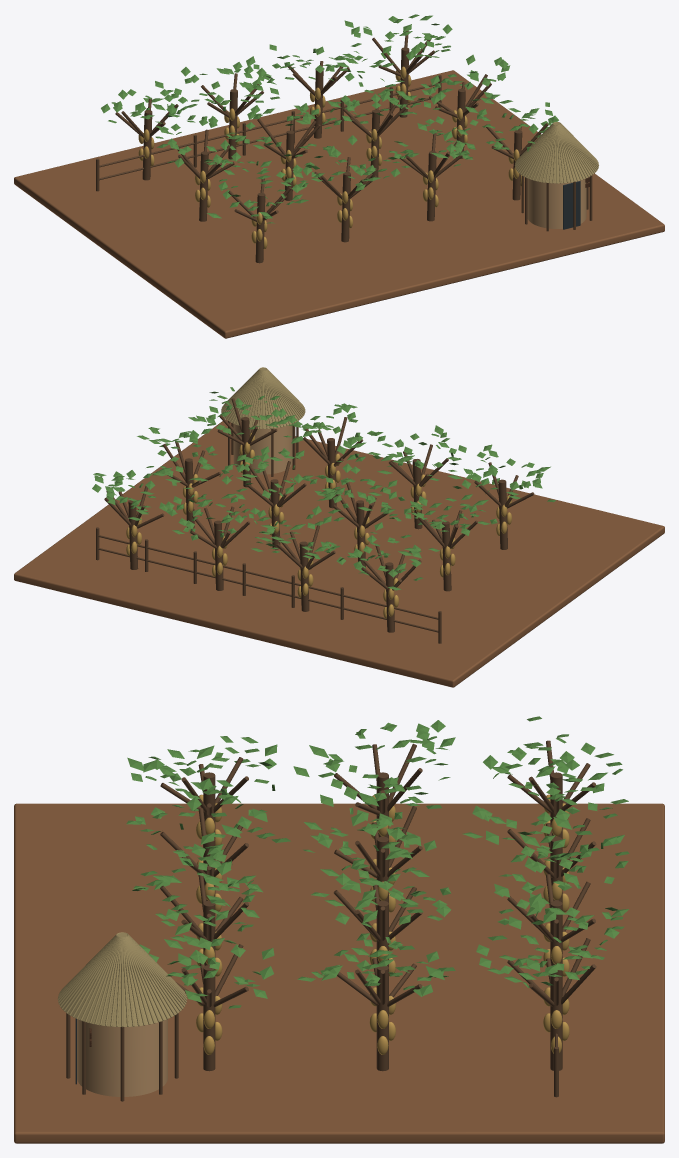
The model's file is cocoa-farm.glb.
3 views of the same model, one above another, from view 1: azimuth 30°, elevation 25°; view 2: azimuth 150°, elevation 25°; view 3: azimuth 270°, elevation 25° (orthographic). The views are drawn at different scales.
Parts seen in each view (by area): view 1: Earth plot, Round earthen wall, Conical thatch roof, Dark doorway, Fence rail.001, Fence rail; view 2: Earth plot, Round earthen wall, Conical thatch roof, Fence rail, Fence rail.001, Trunk; view 3: Earth plot, Round earthen wall, Conical thatch roof, Trunk.009, Trunk.010, Trunk.011.
Part boxes in pixels (<box>): Earth plot: <box>14,70,664,338</box>; Round earthen wall: <box>527,178,586,228</box>; Conical thatch roof: <box>516,122,596,183</box>; Dark doorway: <box>563,181,580,229</box>; Fence rail.001: <box>99,82,438,167</box>; Fence rail: <box>99,98,430,180</box>; Earth plot: <box>14,419,664,687</box>; Round earthen wall: <box>233,424,292,474</box>; Conical thatch roof: <box>224,367,303,428</box>; Fence rail: <box>98,548,438,632</box>; Fence rail.001: <box>98,535,438,619</box>; Trunk: <box>498,479,507,549</box>; Earth plot: <box>14,803,664,1143</box>; Round earthen wall: <box>77,1019,167,1096</box>; Conical thatch roof: <box>59,933,185,1026</box>; Trunk.009: <box>203,965,215,1071</box>; Trunk.010: <box>376,966,388,1071</box>; Trunk.011: <box>550,970,562,1070</box>.
Bounding box in the file's own units: 18 × 3.93 × 15.
8 materials, 1 textured.
